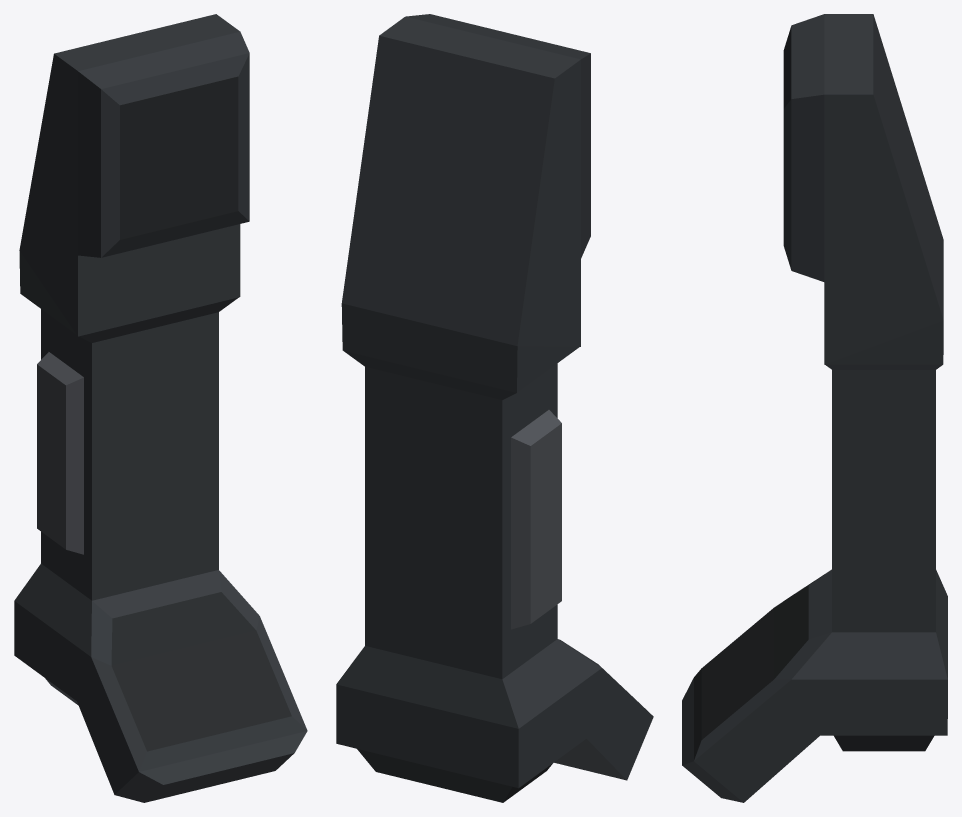
Rendered from SM_Prop_RadioPhone_01.glb.
The picture shows the model from 3 angles, left to right: view 1: azimuth 30°, elevation 25°; view 2: azimuth 150°, elevation 25°; view 3: azimuth 270°, elevation 25°; orthographic projection. The views are drawn at different scales.
Parts seen in each view (by area): view 1: SM_Prop_RadioPhone_01; view 2: SM_Prop_RadioPhone_01; view 3: SM_Prop_RadioPhone_01.
Boxes of the visible parts, <box> form: SM_Prop_RadioPhone_01: <box>14,14,307,802</box>; SM_Prop_RadioPhone_01: <box>336,14,653,802</box>; SM_Prop_RadioPhone_01: <box>682,14,947,802</box>.
Bounding box in the file's own units: 0.0824 × 0.3263 × 0.1105.
1 material, 1 textured.
